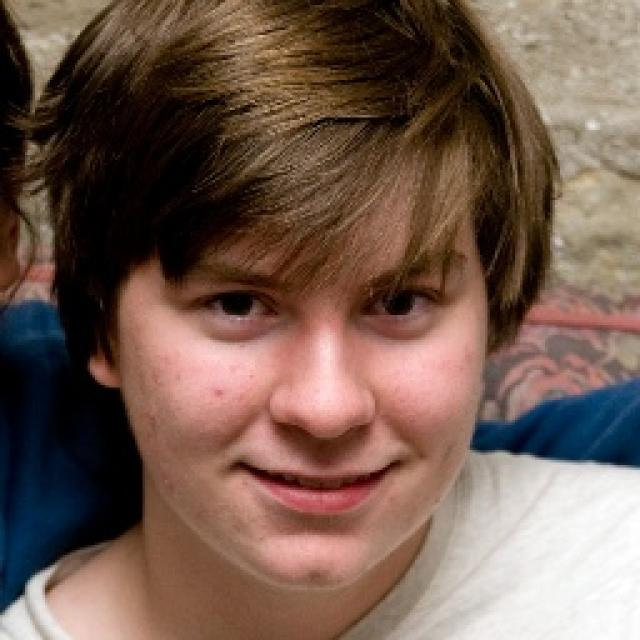earlobe: (86, 352, 116, 386)
eye: (187, 290, 281, 324), (362, 292, 438, 321)
nose: (273, 418, 372, 462)
